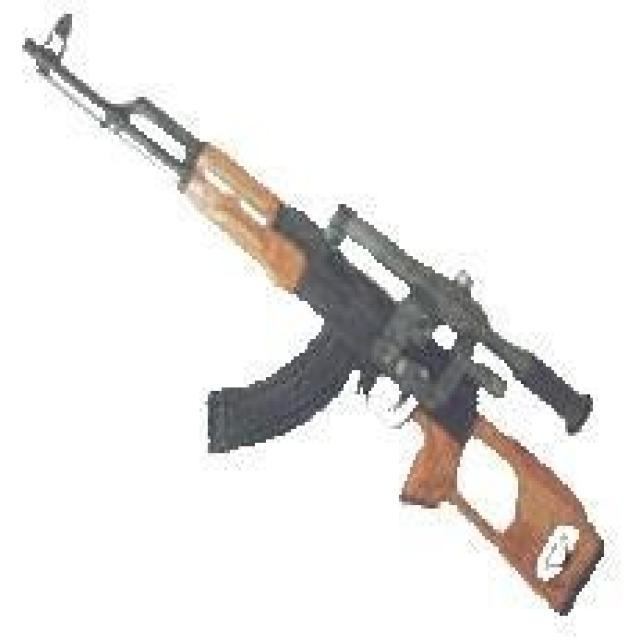Gun: (18, 16, 596, 618)
